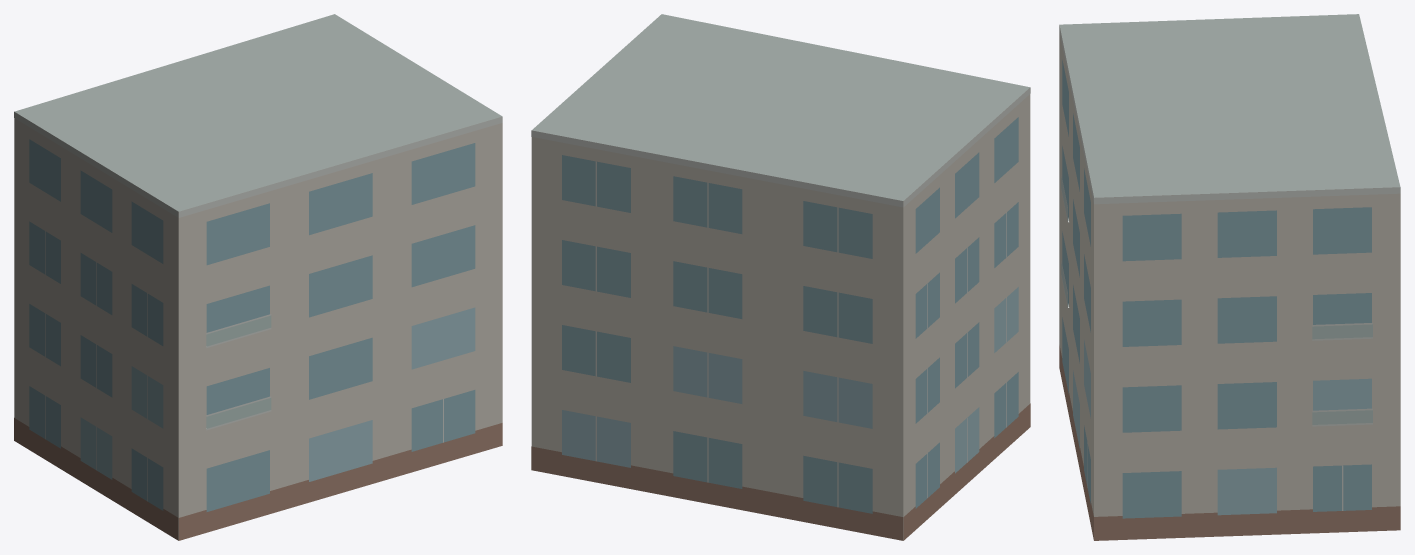
Rendered from survey-upis-32951068.glb.
The picture shows the model from 3 angles, left to right: view 1: azimuth 30°, elevation 25°; view 2: azimuth 150°, elevation 25°; view 3: azimuth 270°, elevation 25°; orthographic projection. The views are drawn at different scales.
Parts seen in each view (by area): view 1: survey-upis-32951068.tmp; view 2: survey-upis-32951068.tmp; view 3: survey-upis-32951068.tmp.
Part boxes in pixels (x1,y1,x2,y2): survey-upis-32951068.tmp: [14, 14, 502, 540]; survey-upis-32951068.tmp: [531, 14, 1030, 540]; survey-upis-32951068.tmp: [1059, 14, 1400, 540].
Bounding box in the file's own units: 14.72 × 12.8 × 11.54.
